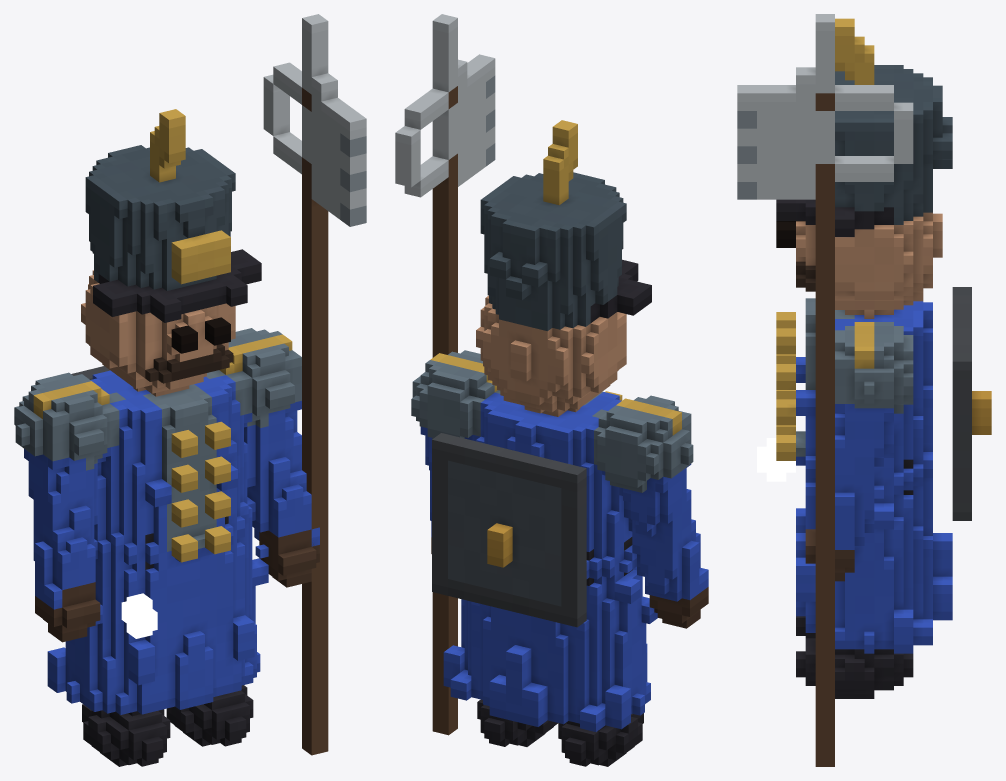
Rendered from u_receleur__garde.glb.
The picture shows the model from 3 angles, left to right: view 1: azimuth 30°, elevation 25°; view 2: azimuth 150°, elevation 25°; view 3: azimuth 270°, elevation 25°; orthographic projection. The views are drawn at different scales.
Visible parts, largest first — view 1: receleur_body, receleur_weapon, receleur_glow; view 2: receleur_body, receleur_weapon; view 3: receleur_body, receleur_weapon, receleur_glow.
Part boxes in pixels (x1,y1,x2,y2): receleur_body: [14, 109, 319, 766]; receleur_weapon: [263, 14, 366, 755]; receleur_glow: [121, 593, 157, 638]; receleur_body: [411, 120, 708, 766]; receleur_weapon: [395, 14, 495, 735]; receleur_body: [776, 18, 991, 698]; receleur_weapon: [737, 14, 913, 766]; receleur_glow: [757, 438, 795, 481].
Size of the model in its own units: 0.85 by 2.1 by 0.65.
